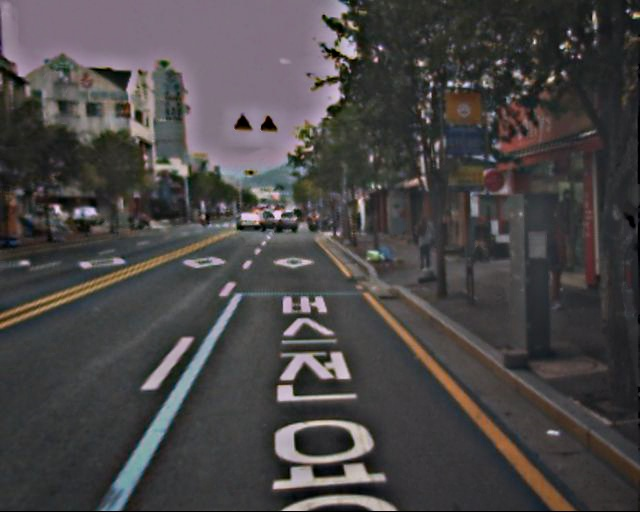person: (602, 198, 640, 315), (532, 219, 573, 311), (412, 214, 436, 273), (470, 217, 489, 264)
